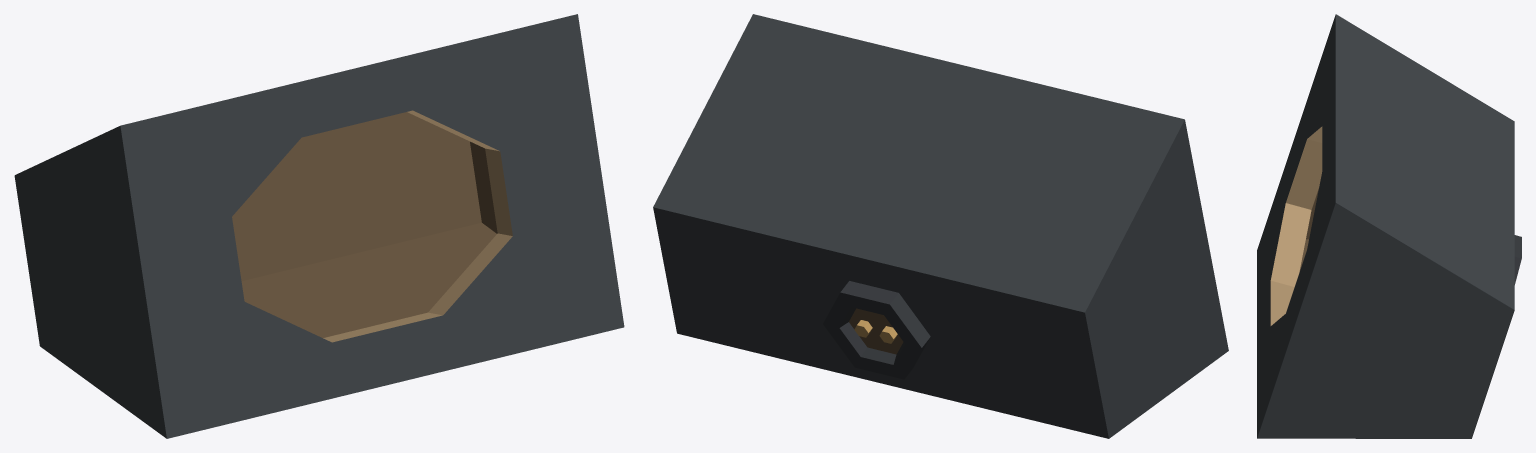
Rendered from SM_Prop_SubBox_Small_01.fbx.
3 views of the same model, side by side, from view 1: azimuth 30°, elevation 25°; view 2: azimuth 150°, elevation 25°; view 3: azimuth 270°, elevation 25° (orthographic). The views are drawn at different scales.
Parts seen in each view (by area): view 1: SM_Prop_SubBox_Small_01; view 2: SM_Prop_SubBox_Small_01; view 3: SM_Prop_SubBox_Small_01.
Boxes of the visible parts, x1,y1,x2,y2 form: SM_Prop_SubBox_Small_01: (14, 14, 624, 438); SM_Prop_SubBox_Small_01: (653, 14, 1228, 438); SM_Prop_SubBox_Small_01: (1257, 14, 1521, 438).
Size of the model in its own units: 54.72 by 31.96 by 32.45.
